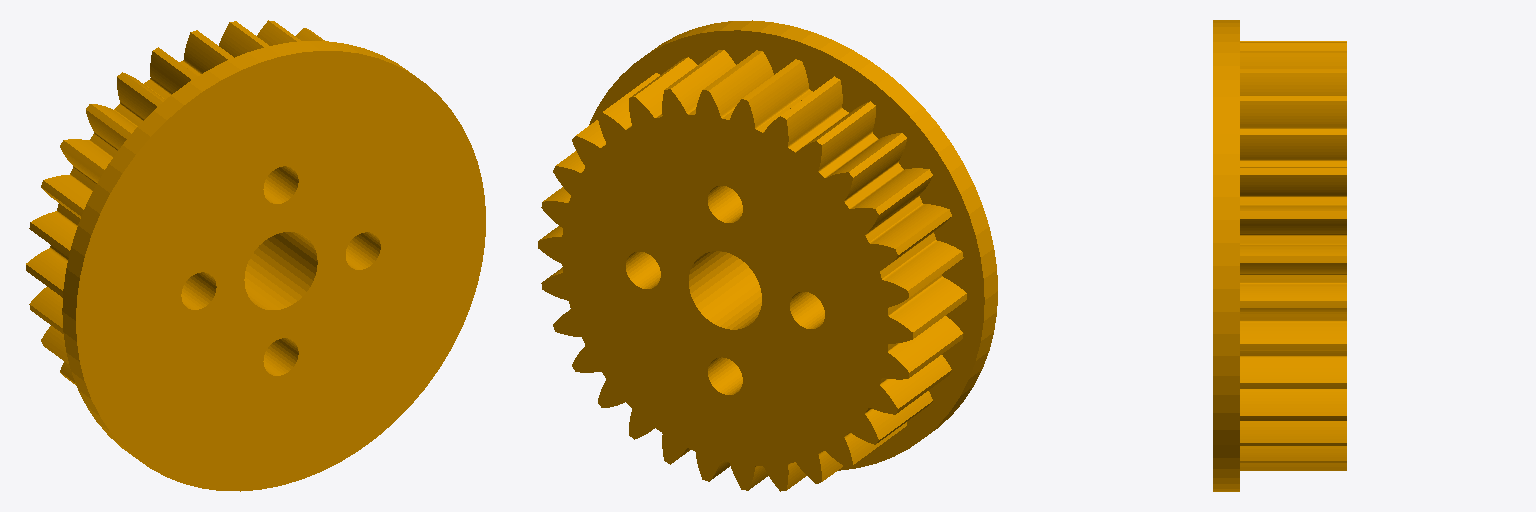
robot.urdf — gear_3_L0.80_T0.80:
<?xml version="1.0" encoding="utf-8"?>
<robot name="gear_3_L0.80_T0.80">
  <link name="gear_3_L0.80_T0.80Link">
    <contact>
      <lateral_friction value="1"/>
    </contact>
    <inertial>
      <origin rpy="0 0 0" xyz="0 0 0"/>
      <mass value="0.0"/>
      <inertia ixx="0" ixy="0" ixz="0" iyy="0" iyz="0" izz="0"/>
    </inertial>
    <visual>
      <origin rpy="0 0 0" xyz="0 0 0"/>
      <geometry>
        <mesh filename="generated_stl/gear/gear_3/gear_3_L0.80_T0.80/gear_3_L0.80_T0.80.stl" scale="0.01 0.01 0.01"/>
      </geometry>
    </visual>
    <collision>
      <origin rpy="0 0 0" xyz="0 0 0"/>
      <geometry>
        <mesh filename="generated_stl/gear/gear_3/gear_3_L0.80_T0.80/gear_3_L0.80_T0.80.stl" scale="0.01 0.01 0.01"/>
      </geometry>
    </collision>
  </link>
</robot>

--- Facts derived from the render (not from the file) ---
The picture shows the robot from 3 angles, left to right: view 1: azimuth 30°, elevation 25°; view 2: azimuth 150°, elevation 25°; view 3: azimuth 270°, elevation 25°; orthographic projection.
Model gear_3_L0.80_T0.80 with 1 links and 0 joints (none), rooted at gear_3_L0.80_T0.80Link, posed every joint at zero.
Links seen in each view (by area): view 1: gear_3_L0.80_T0.80Link; view 2: gear_3_L0.80_T0.80Link; view 3: gear_3_L0.80_T0.80Link.
Link boxes in pixels (bbox=[...]): gear_3_L0.80_T0.80Link: bbox=[26, 20, 485, 491]; gear_3_L0.80_T0.80Link: bbox=[538, 20, 997, 491]; gear_3_L0.80_T0.80Link: bbox=[1213, 20, 1346, 491].
Size in the robot's own frame: 0.04 by 0.0114 by 0.04 metres.
1 mesh visuals loaded from 1 distinct referenced files (1 binary STL).